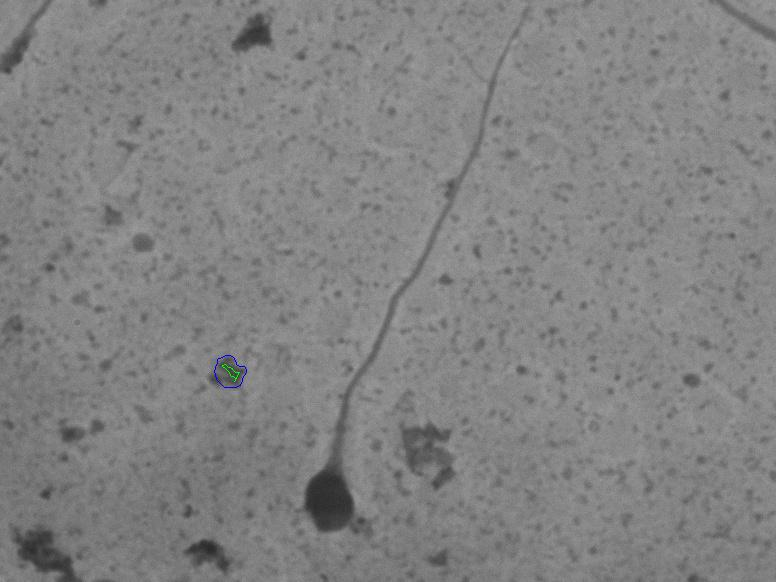Abnormal: (292, 25, 545, 553)
